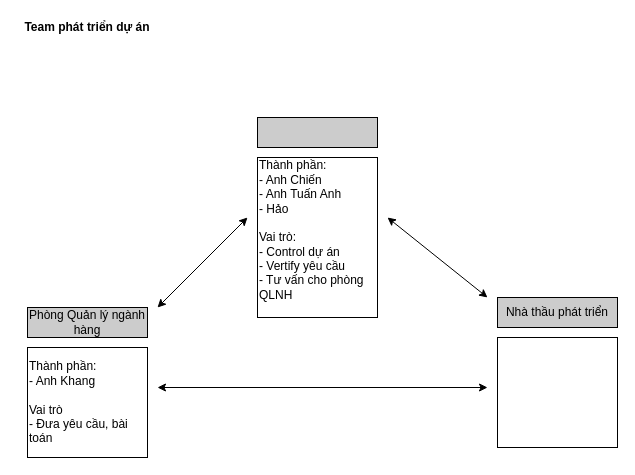
Some shapes in this 635 by 475 pixel diagram are drawn without their labels. Each missing label, with the centre of its shape:
"IT VEC" goes at (x=317, y=132).
"Thành phần: - Anh Đức - Anh Ngọc Vai trò: - Phát triển dự án" goes at (x=557, y=392).
